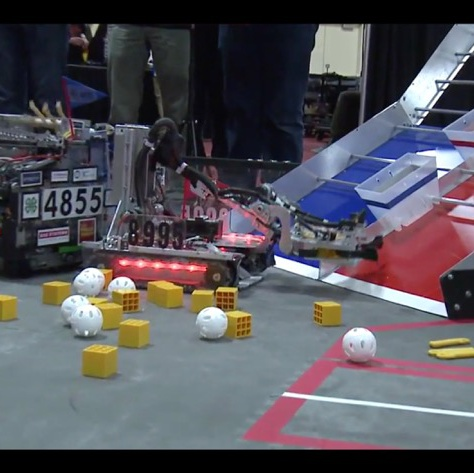robot: (81, 118, 386, 317), (0, 97, 120, 279)
